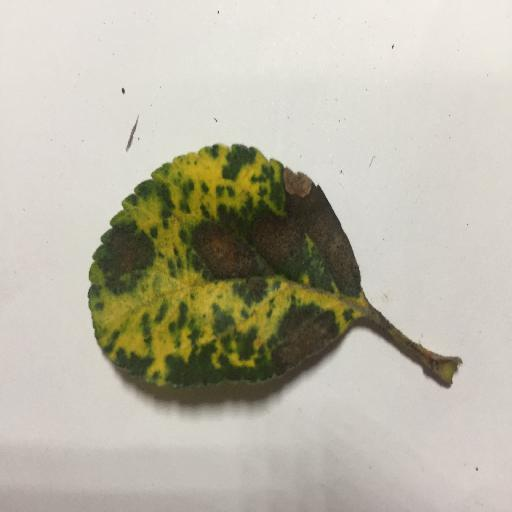Brown_Spot: (302, 195, 358, 291), (275, 312, 328, 366), (196, 233, 251, 276), (259, 216, 300, 268), (104, 237, 146, 274)
